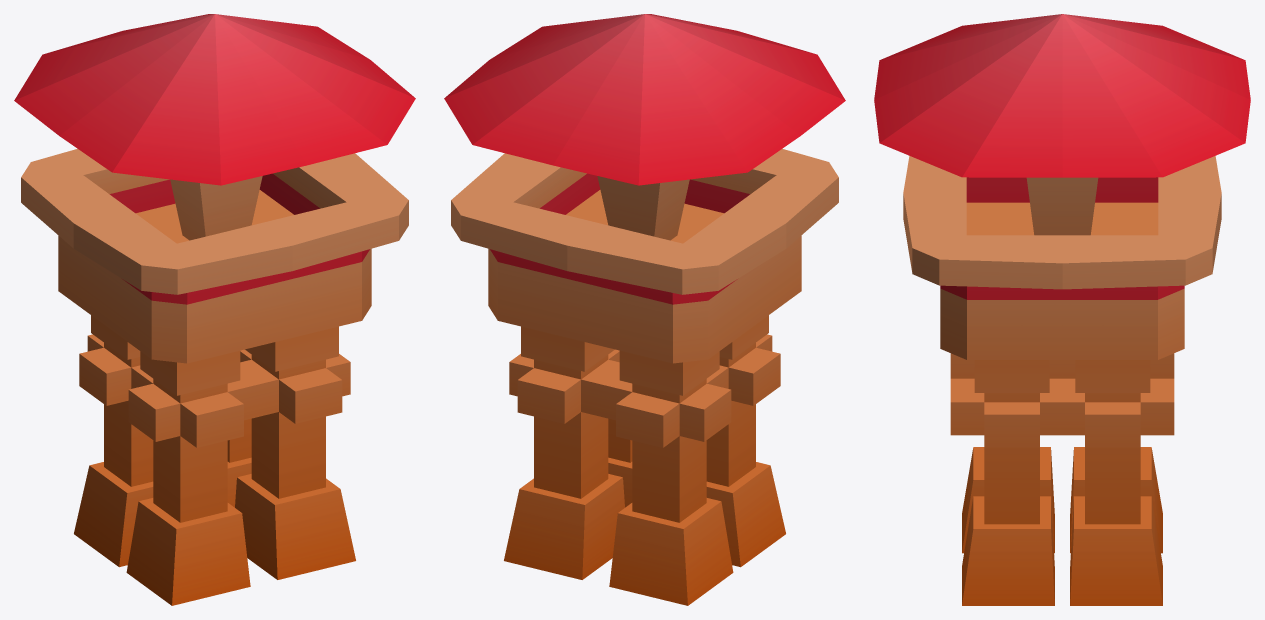
File: Torreta3.fbx
The picture shows the model from 3 angles, left to right: view 1: azimuth 30°, elevation 25°; view 2: azimuth 150°, elevation 25°; view 3: azimuth 270°, elevation 25°; orthographic projection. The views are drawn at different scales.
Visible parts, largest first — view 1: Torreta; view 2: Torreta; view 3: Torreta.
Part boxes in pixels (box(x1,y1,x2,y2)): Torreta: box(14, 14, 415, 605); Torreta: box(444, 14, 845, 605); Torreta: box(874, 14, 1250, 605).
Bounding box in the file's own units: 157 × 258 × 161.
